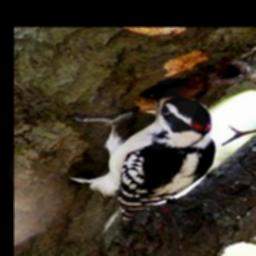Woodpecker: (69, 91, 216, 229)
